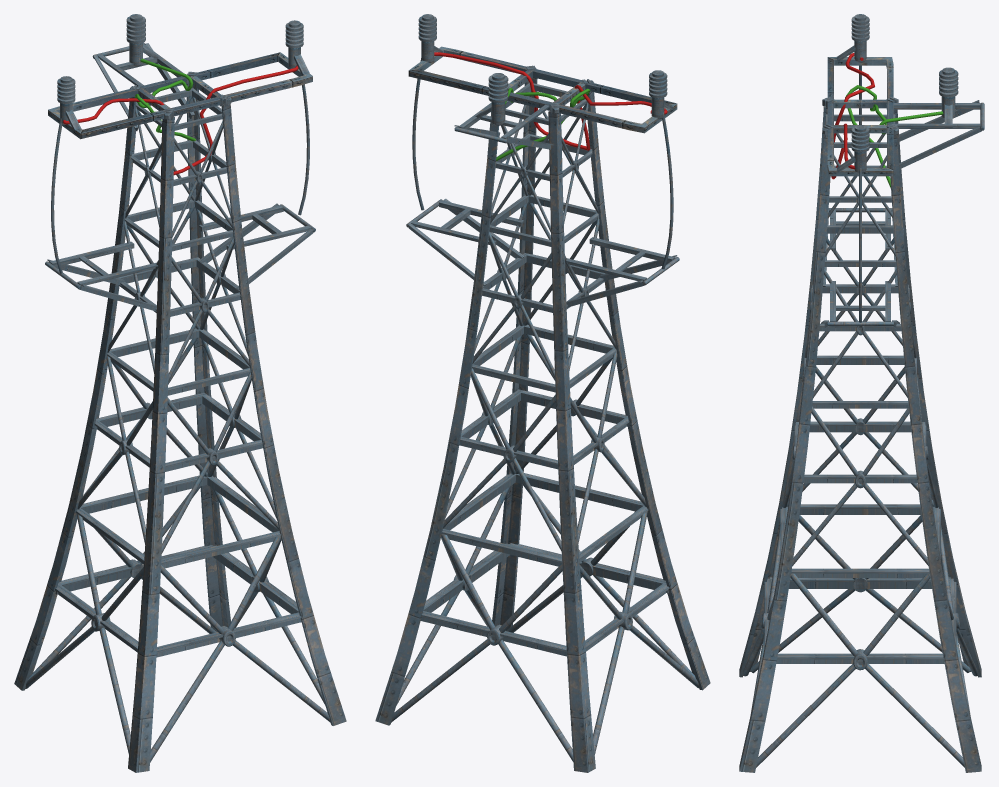
File: static.glb
3 views of the same model, side by side, from view 1: azimuth 30°, elevation 25°; view 2: azimuth 150°, elevation 25°; view 3: azimuth 270°, elevation 25° (orthographic).
Parts seen in each view (by area): view 1: Cube_12, Cube_11, Cube_13, Cube_14, Sweep_1_4, Cube_10, Cube_1_2, Cylinder_11, Cube_1_9, Cylinder_19, Cylinder_1_6, Cube_1_26 (+26 smaller); view 2: Cube_13, Cube_14, Cube_12, Cube_11, Sweep_1_4, Cube_10, Cube_1_2, Cylinder_27, Cube_1_25, Cylinder_19, Cylinder_1_14, Cylinder_11 (+25 smaller); view 3: Cube_14, Cube_11, Cube_12, Cube_13, Sweep_1_4, Cylinder_35, Cube_1_33, Cube_1_34, Cylinder_1_18, Cube_1_17, Cylinder_19, Cube_1_18 (+28 smaller).
Boxes of the visible parts, <box> form: Cube_12: <box>128,116,174,772</box>; Cube_11: <box>221,104,346,725</box>; Cube_13: <box>14,97,136,690</box>; Cube_14: <box>186,83,230,631</box>; Sweep_1_4: <box>48,52,312,139</box>; Cube_10: <box>49,205,311,285</box>; Cube_1_2: <box>47,203,313,311</box>; Cylinder_11: <box>150,640,330,762</box>; Cube_1_9: <box>156,612,301,657</box>; Cylinder_19: <box>25,626,130,753</box>; Cylinder_1_6: <box>160,536,280,634</box>; Cube_1_26: <box>80,475,207,513</box>; Cube_13: <box>548,111,595,772</box>; Cube_14: <box>375,112,498,725</box>; Cube_12: <box>587,91,710,690</box>; Cube_11: <box>492,77,537,630</box>; Sweep_1_4: <box>408,46,677,133</box>; Cube_10: <box>411,200,674,281</box>; Cube_1_2: <box>409,198,677,307</box>; Cylinder_27: <box>391,639,573,761</box>; Cube_1_25: <box>420,611,566,656</box>; Cylinder_19: <box>593,625,698,754</box>; Cylinder_1_14: <box>441,534,562,632</box>; Cylinder_11: <box>506,574,695,678</box>; Cube_14: <box>890,134,981,772</box>; Cube_11: <box>739,134,830,772</box>; Cube_12: <box>739,106,827,677</box>; Cube_13: <box>893,109,981,677</box>; Sweep_1_4: <box>827,57,893,176</box>; Cylinder_35: <box>756,663,964,767</box>; Cube_1_33: <box>776,653,944,663</box>; Cube_1_34: <box>791,568,929,577</box>; Cylinder_1_18: <box>790,573,930,656</box>; Cube_1_17: <box>770,577,951,588</box>; Cylinder_19: <box>750,589,970,673</box>; Cube_1_18: <box>787,504,933,514</box>.
Bounding box in the file's own units: 4.87 × 11.78 × 4.02.
4 materials, 4 textured.
